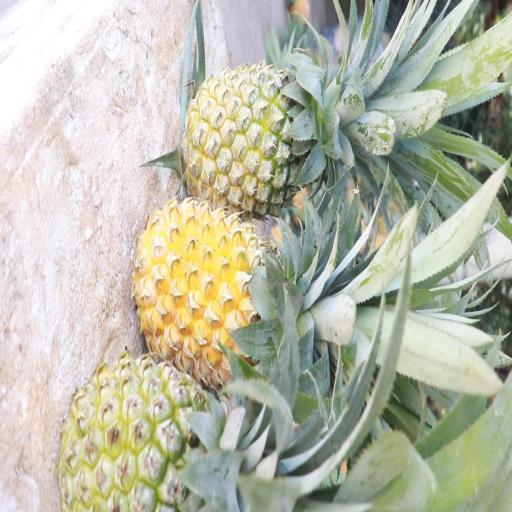------------------------------: (66, 357, 252, 512), (182, 60, 320, 210)
Pineapple - v8 v1: (132, 197, 308, 379)
